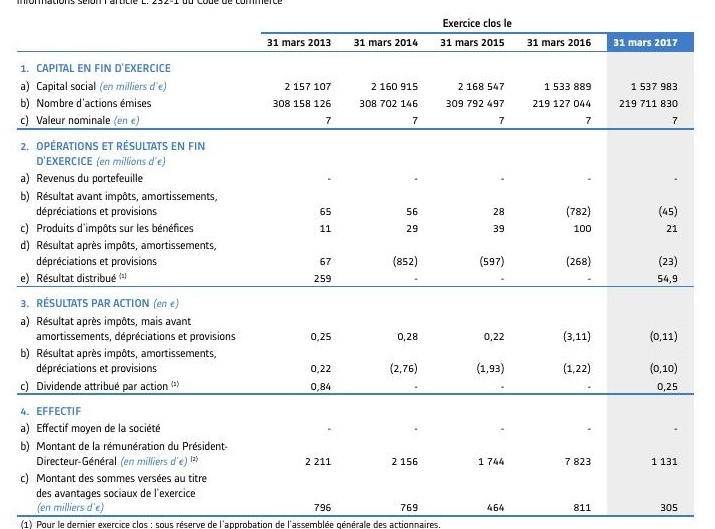table: (0, 0, 715, 529)
